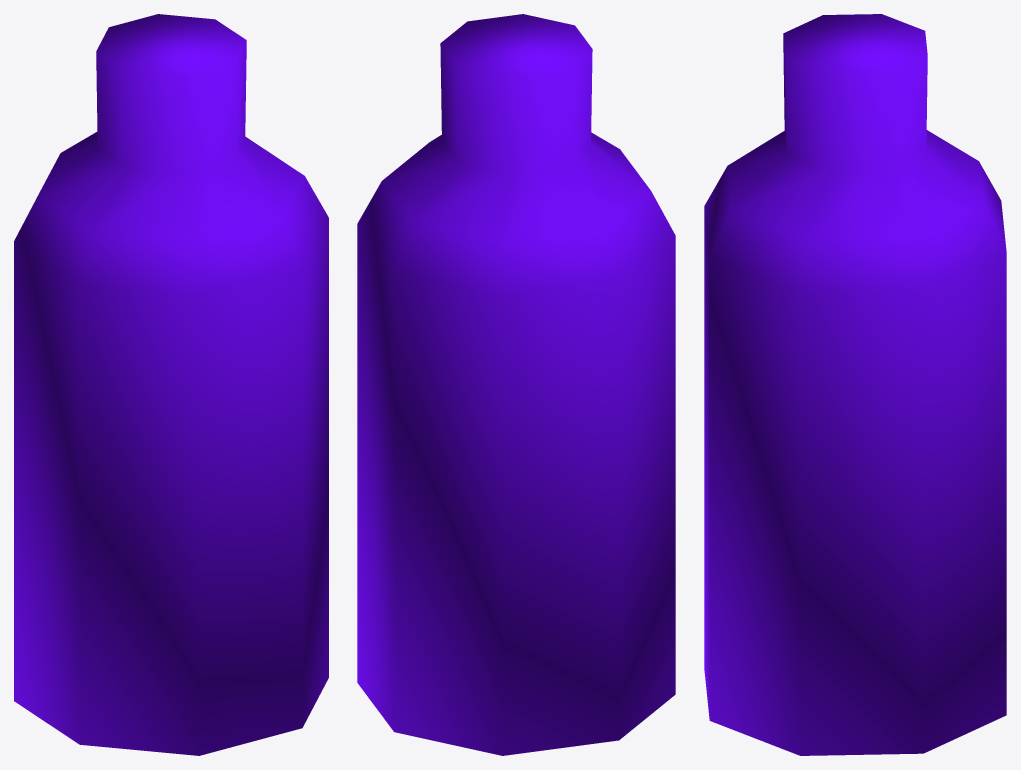
Rendered from hospital_staff_medicine_bottle_large_1_meshCollider.fbx.
The picture shows the model from 3 angles, left to right: view 1: azimuth 30°, elevation 25°; view 2: azimuth 150°, elevation 25°; view 3: azimuth 270°, elevation 25°; orthographic projection.
Parts seen in each view (by area): view 1: hospital_staff_medicine_bottle_large_1_meshCollider; view 2: hospital_staff_medicine_bottle_large_1_meshCollider; view 3: hospital_staff_medicine_bottle_large_1_meshCollider.
Part boxes in pixels (bbox=[...]): hospital_staff_medicine_bottle_large_1_meshCollider: bbox=[14, 14, 328, 755]; hospital_staff_medicine_bottle_large_1_meshCollider: bbox=[357, 14, 675, 755]; hospital_staff_medicine_bottle_large_1_meshCollider: bbox=[704, 14, 1006, 755].
Bounding box in the file's own units: 6.47 × 15.29 × 6.47.
